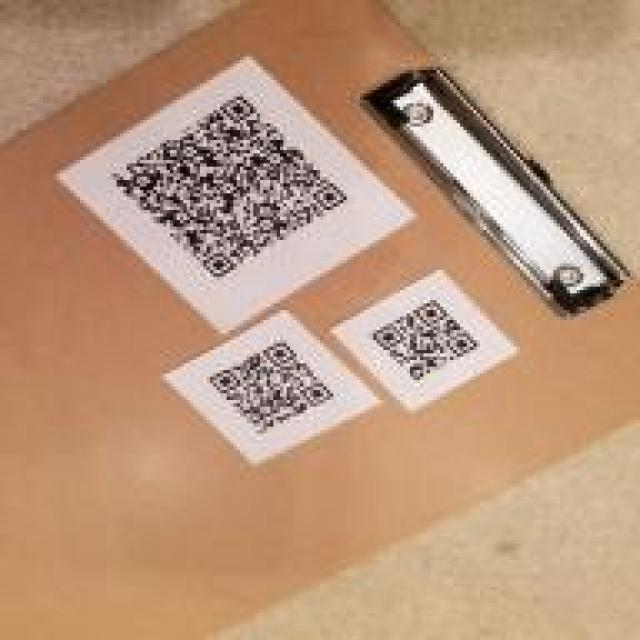QR_CODE: (100, 84, 357, 284), (200, 330, 343, 440), (362, 292, 490, 393)
